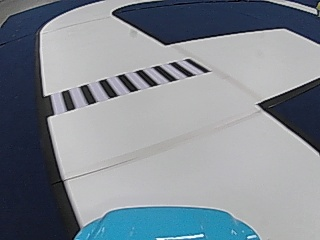CrossWalk: (55, 59, 201, 111)
